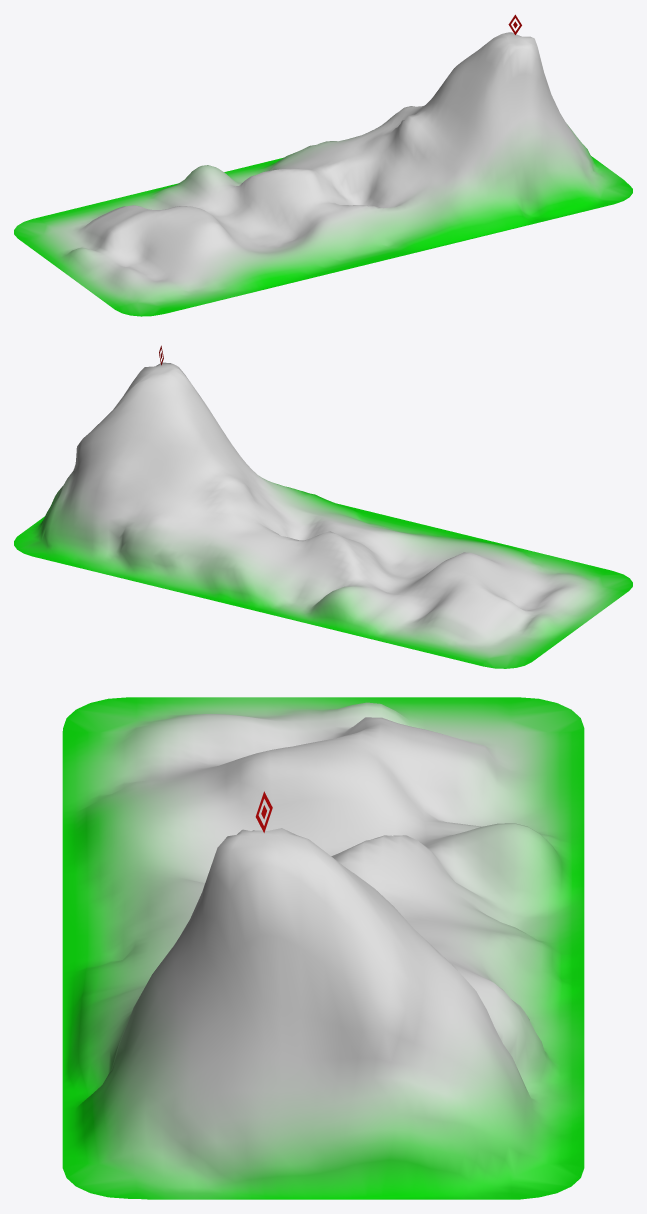
The model's file is Prop_HologramMap2.fbx.
The picture shows the model from 3 angles, top to bottom: view 1: azimuth 30°, elevation 25°; view 2: azimuth 150°, elevation 25°; view 3: azimuth 270°, elevation 25°; orthographic projection. The views are drawn at different scales.
Visible parts, largest first — view 1: Prop_HologramMap2; view 2: Prop_HologramMap2; view 3: Prop_HologramMap2.
Part boxes in pixels (left/top/right/bottom): Prop_HologramMap2: left=14, top=14, right=632, bottom=316; Prop_HologramMap2: left=14, top=345, right=632, bottom=668; Prop_HologramMap2: left=62, top=697, right=584, bottom=1199.
Bounding box in the file's own units: 360 × 110 × 158.
